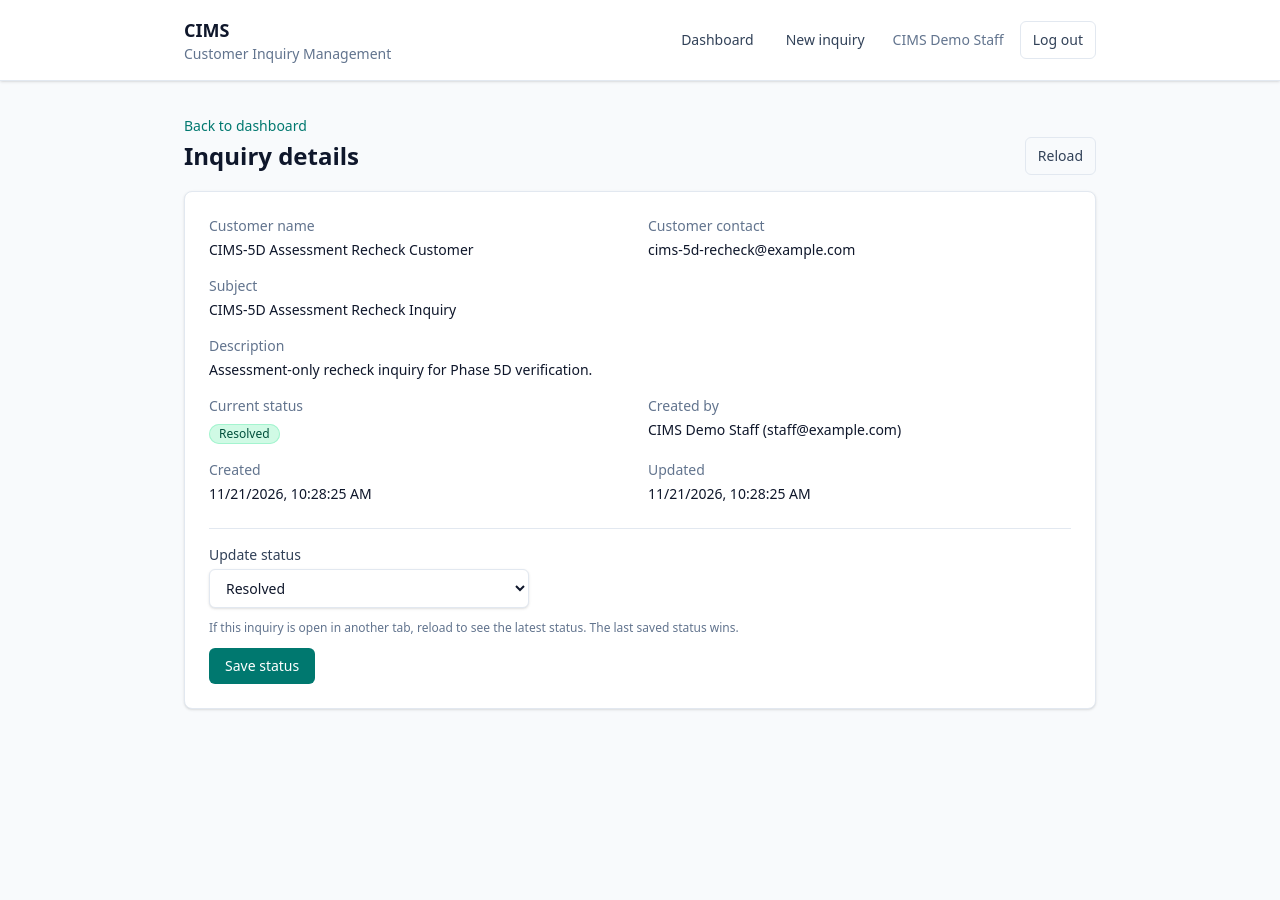
Test: Inquiry details › updates status and can reopen a resolved inquiry
This screenshot has width=1280, height=900.
Expected: the text "CIMS-5D Assessment Recheck Customer" is shown, 209,240 -> 474,259
Select "New" in the dropdown labelled "Update status" at (369, 588), box 209,569 -> 529,608
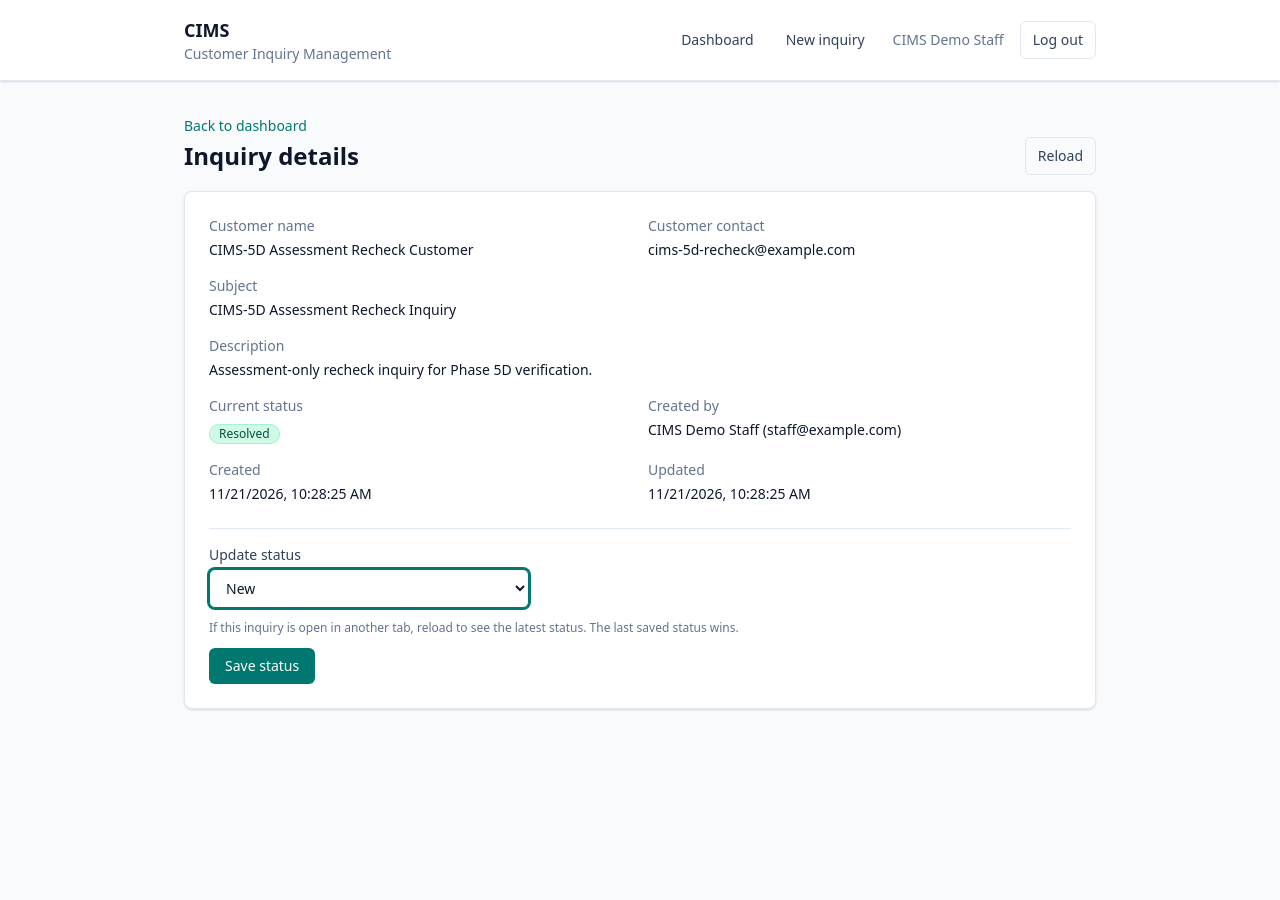
Click the button "Save status".
click(262, 666)  # box 209,648 -> 315,684
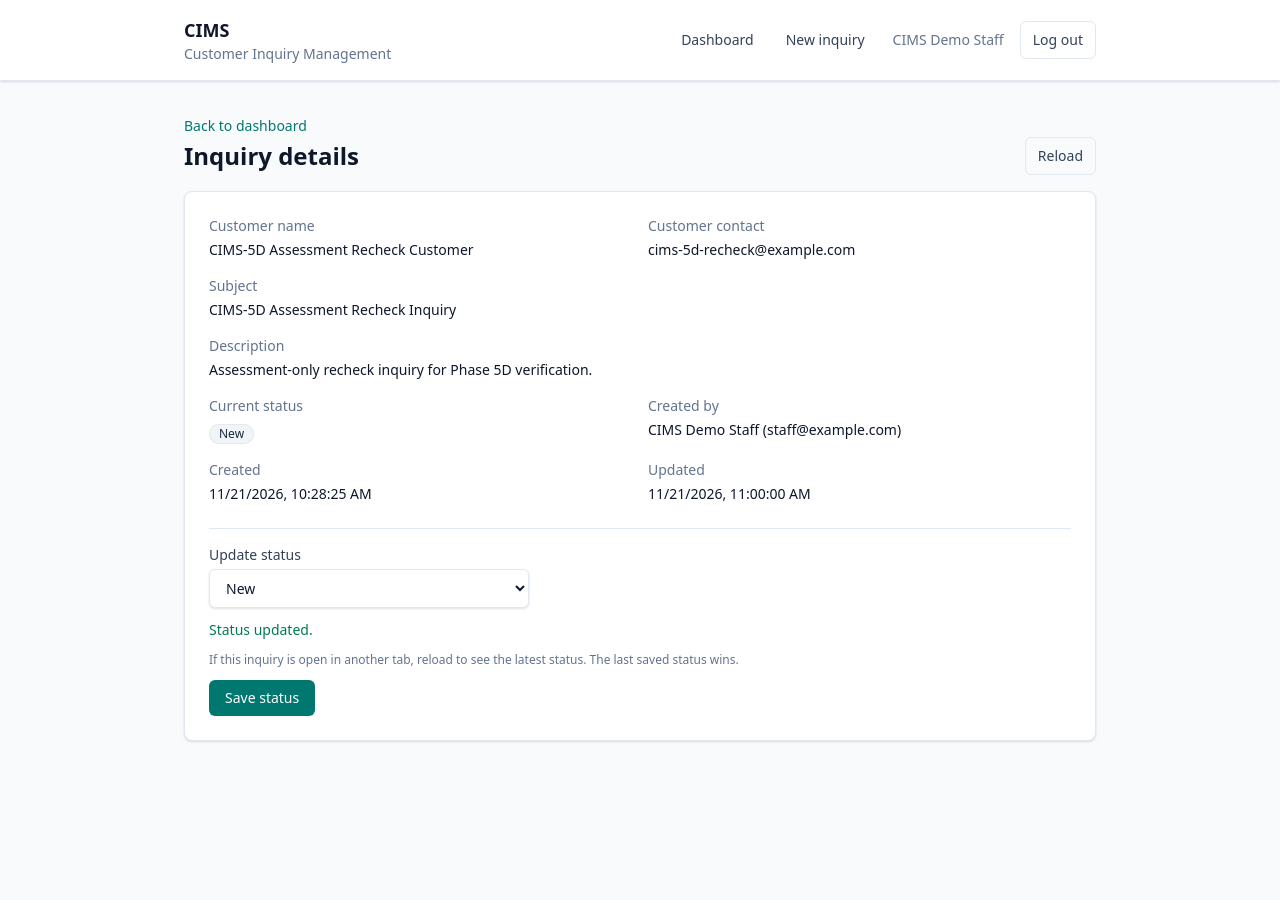
Expected: the message reads "Status updated.", 209,620 -> 313,639
